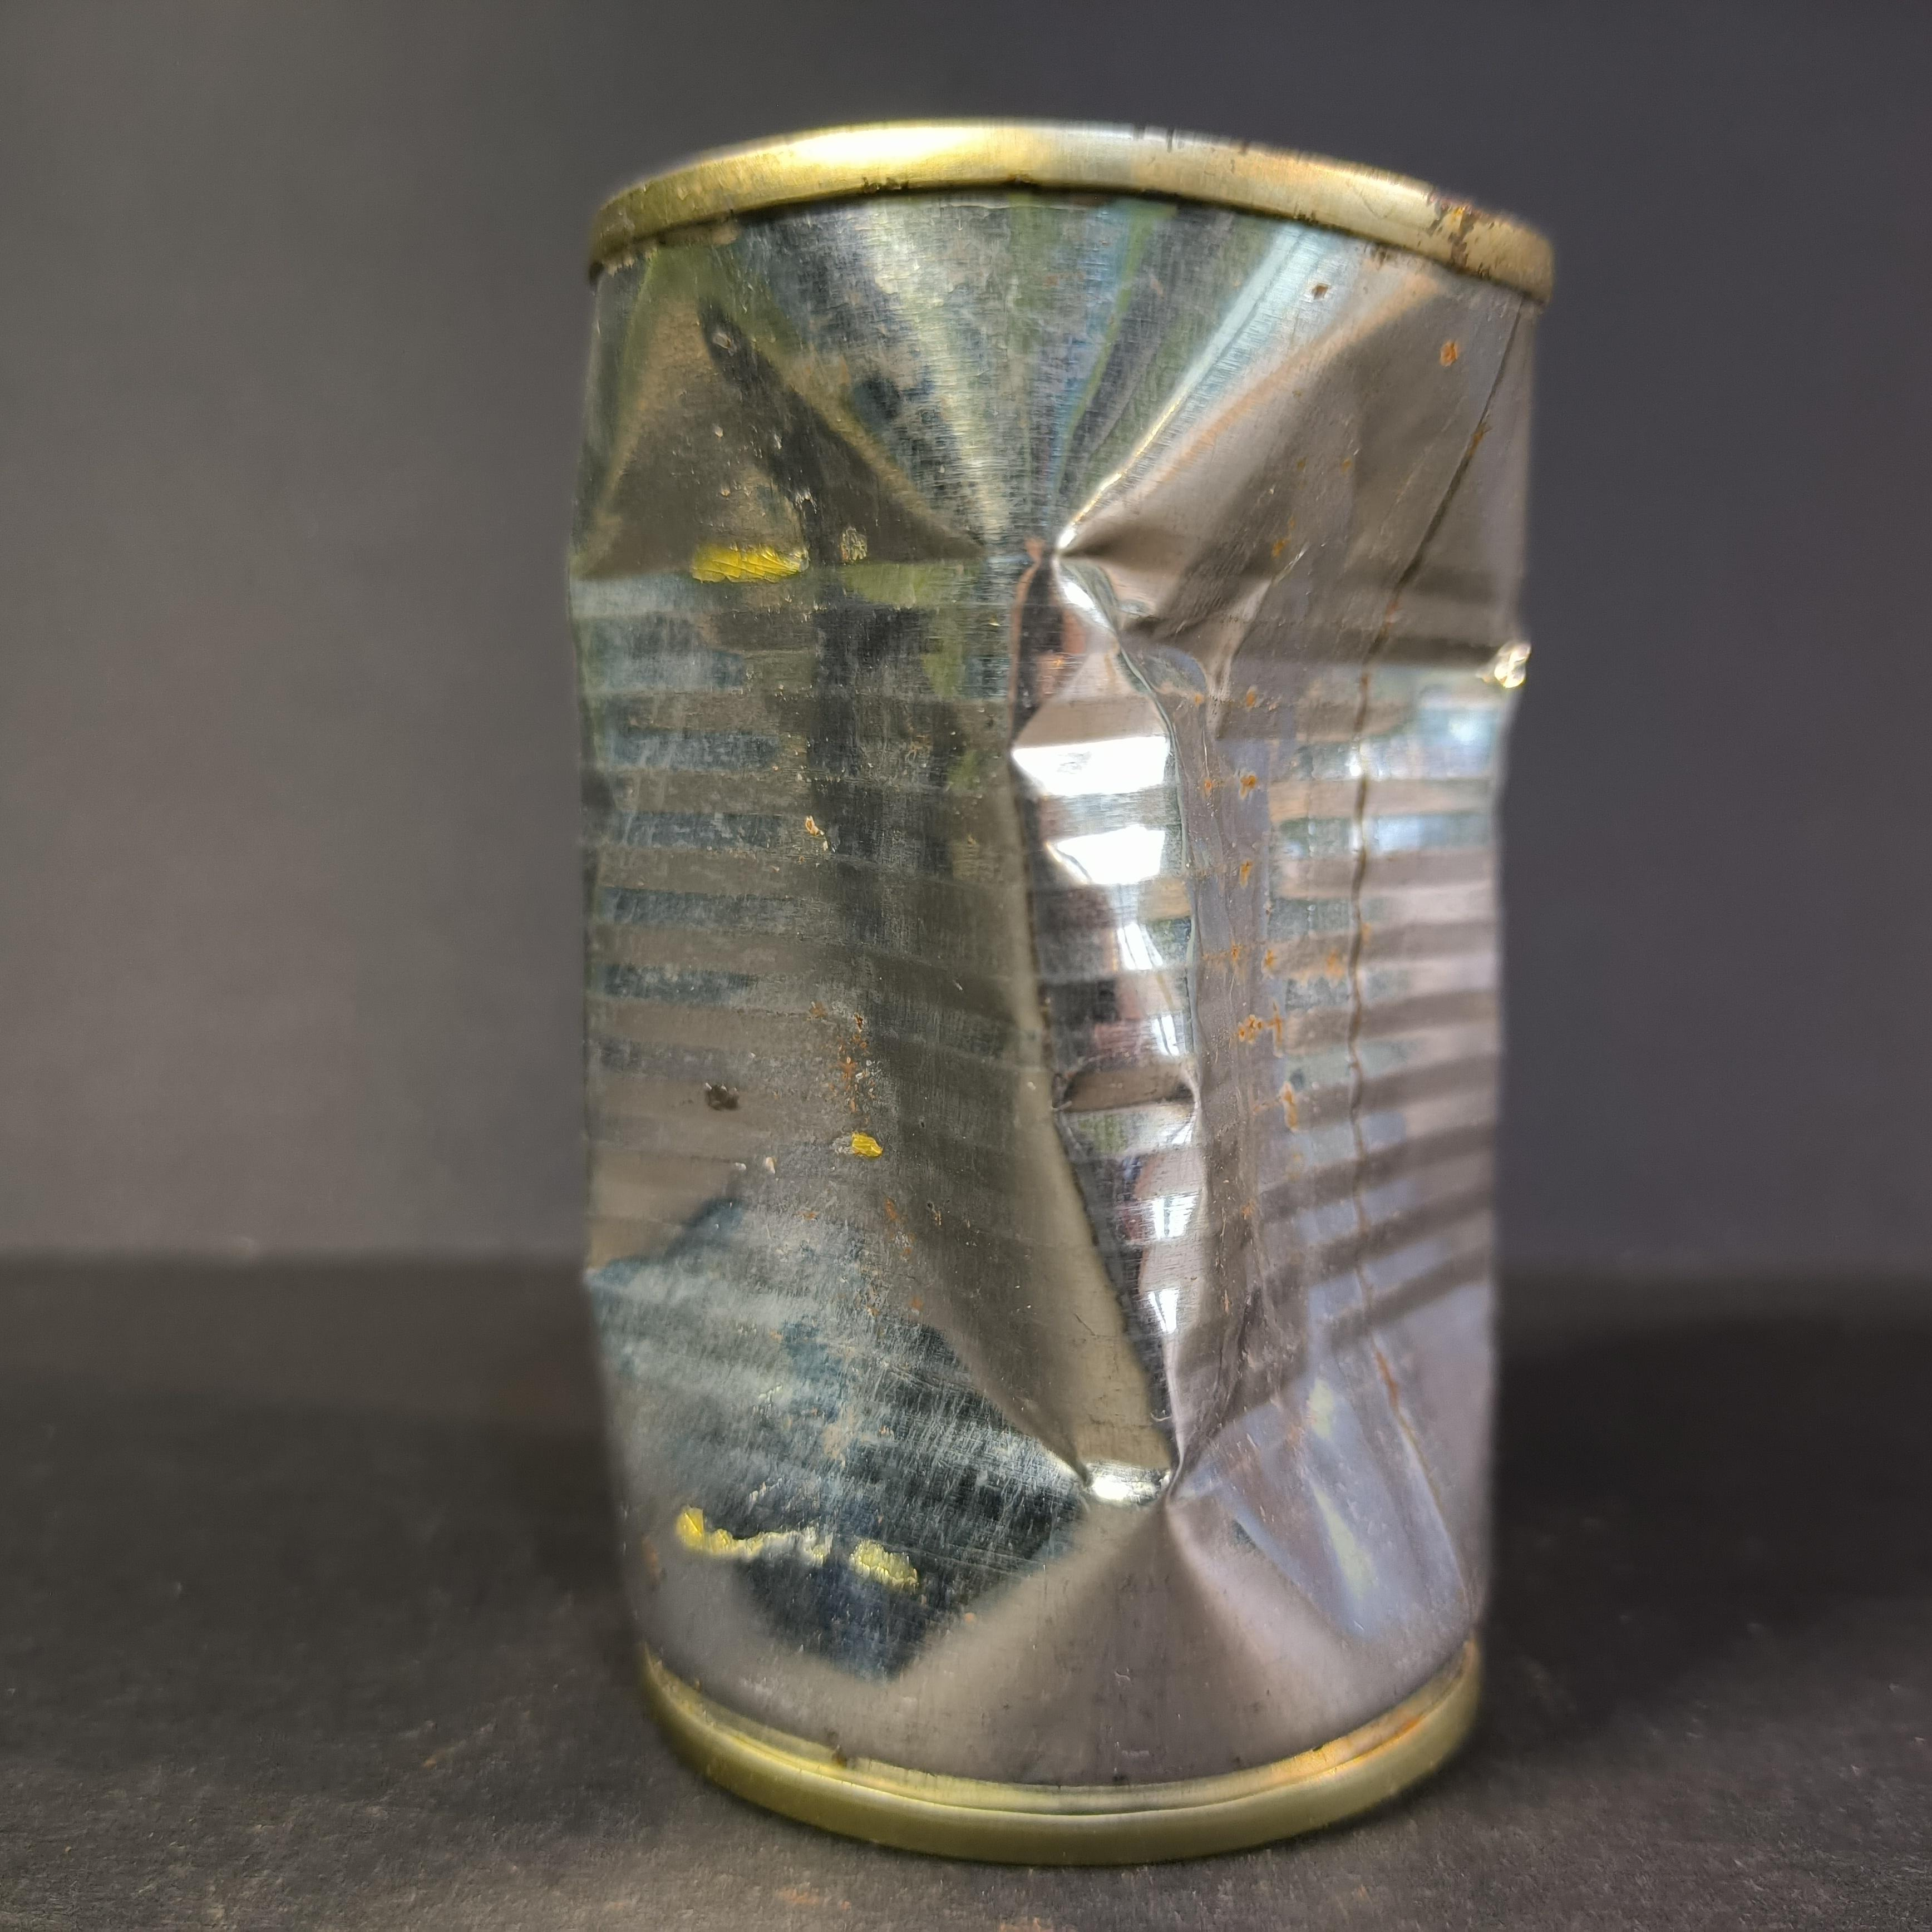Dented: (540, 78, 1575, 1856)
